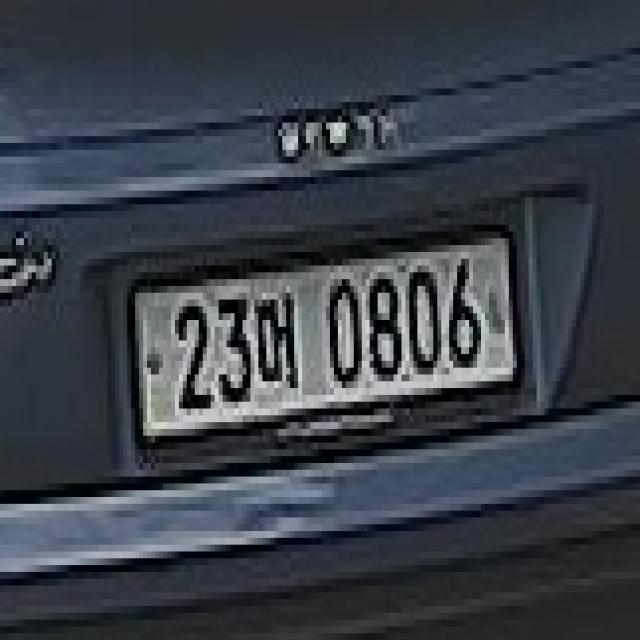0: (325, 270, 368, 392), (408, 261, 447, 384)
2: (170, 296, 215, 420)
3: (215, 287, 260, 412)
6: (448, 249, 487, 378)
8: (366, 262, 406, 386)
license_plate: (129, 227, 522, 450)
meo: (256, 280, 308, 405)
